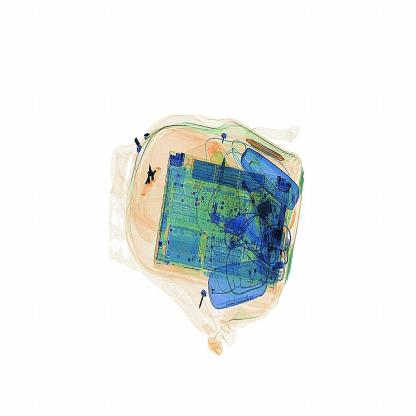gun: (139, 154, 168, 202)
